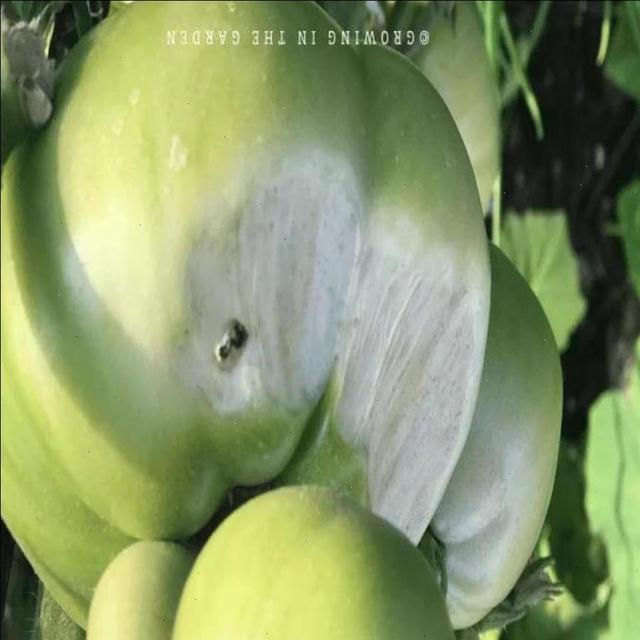Sunscald Fruit: (84, 188, 310, 328)
